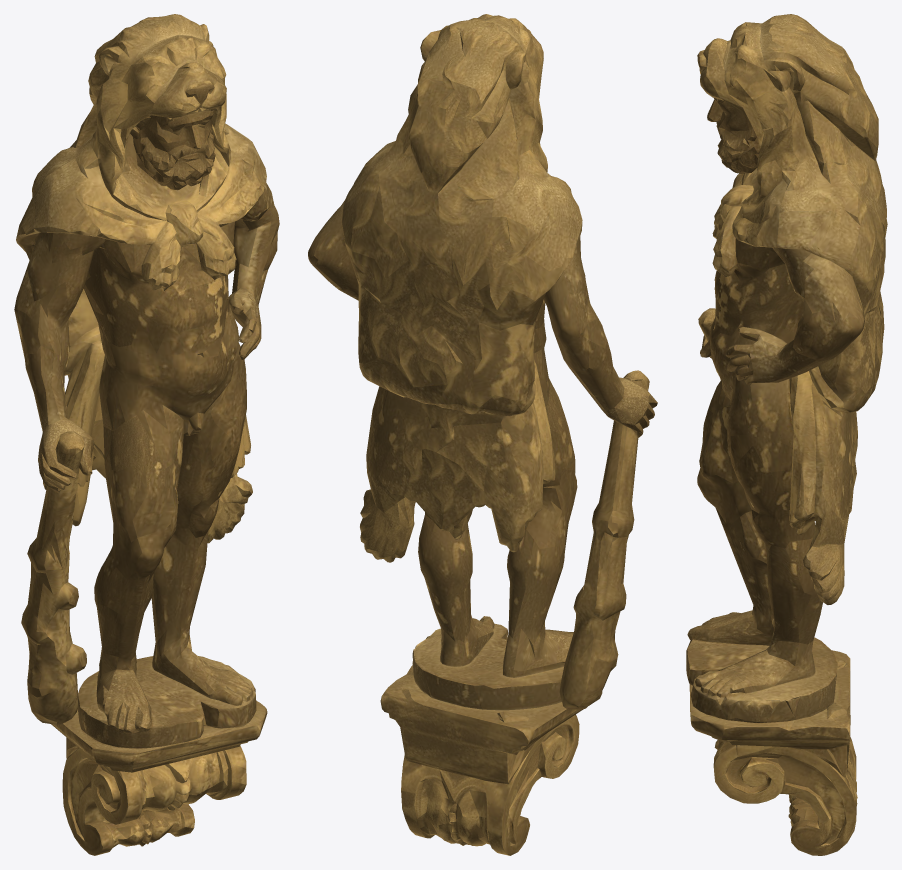
The model's file is corner_figure.glb.
3 renders of one model, left to right at view 1: azimuth 30°, elevation 25°; view 2: azimuth 150°, elevation 25°; view 3: azimuth 270°, elevation 25°, orthographic. The views are drawn at different scales.
Parts seen in each view (by area): view 1: output_unwrapped; view 2: output_unwrapped; view 3: output_unwrapped.
Boxes of the visible parts, x1,y1,x2,y2 form: output_unwrapped: (14,14,279,855); output_unwrapped: (308,14,657,855); output_unwrapped: (686,14,887,855).
Size of the model in its own units: 0.3665 by 1 by 0.2232.
1 material, 1 textured.
